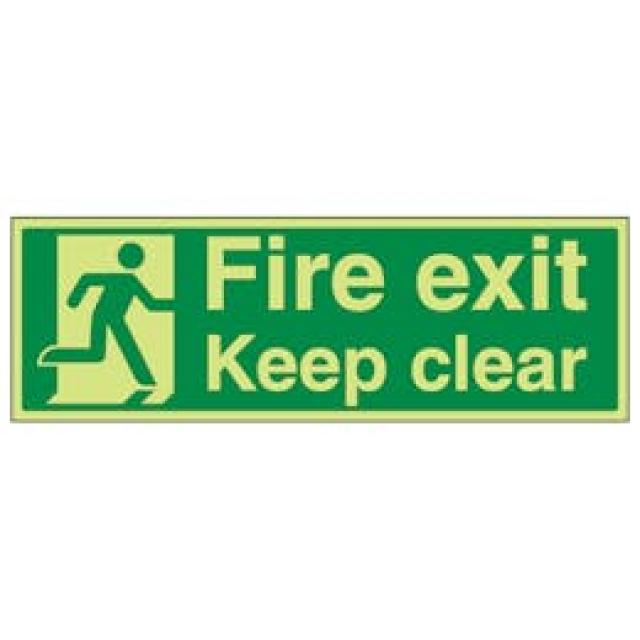exit_sign: (3, 204, 640, 452)
